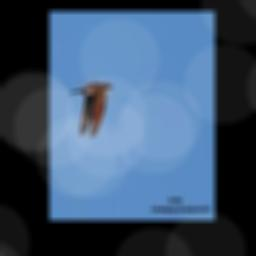Cuckoo: (68, 81, 112, 136)
